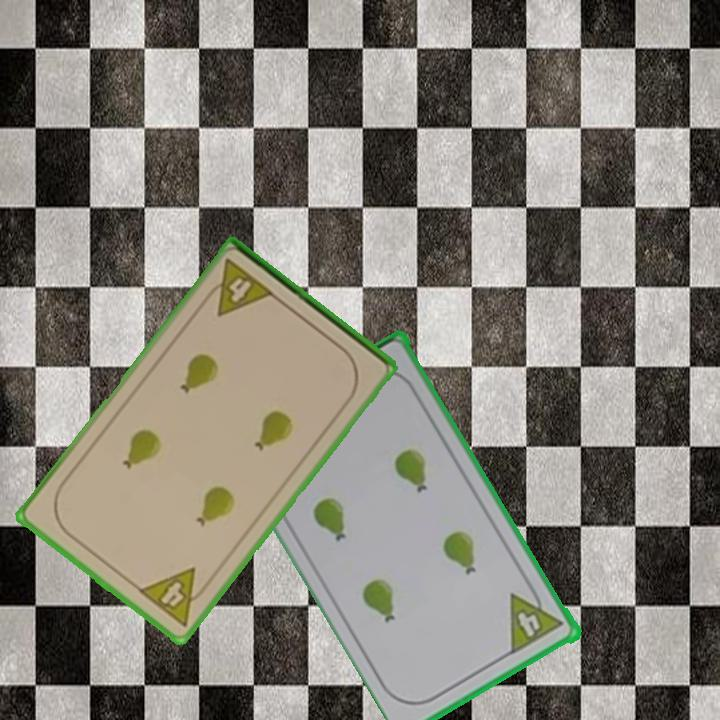4p: (134, 564, 215, 630), (199, 255, 278, 320), (506, 581, 567, 657)
